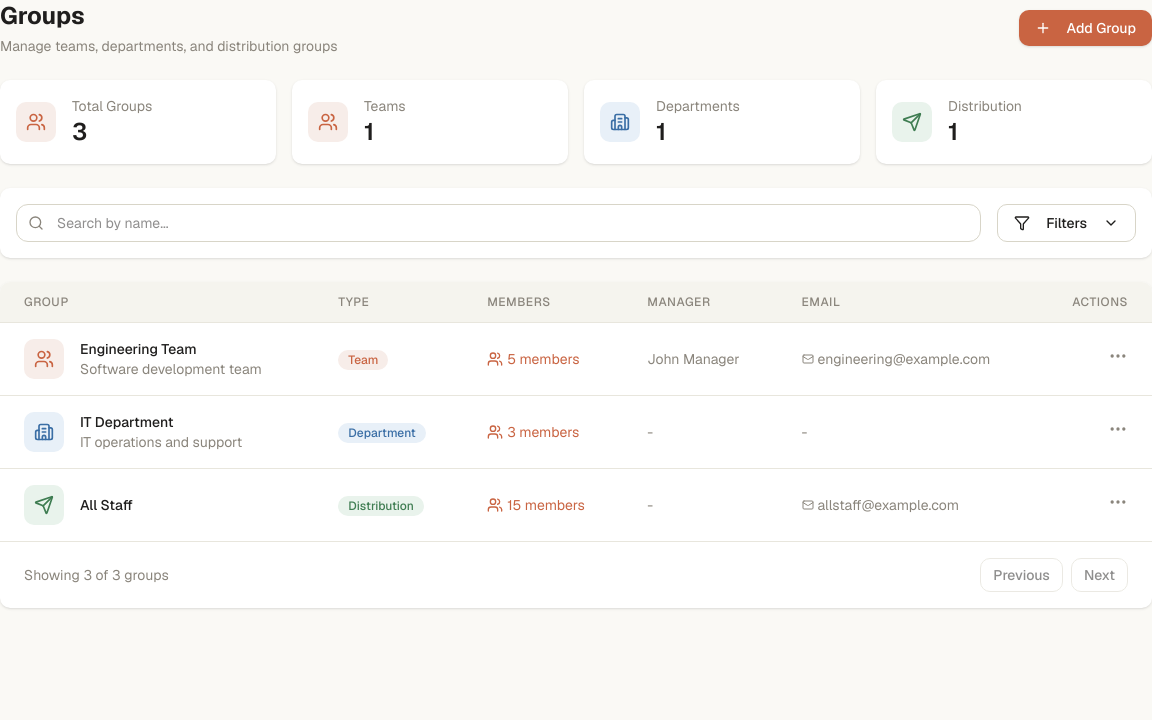
Test: GroupsPage › Create Group Modal › opens modal when Add Group is clicked
Click the button "Add Group": x=1085, y=28 [1019,10,1151,46]
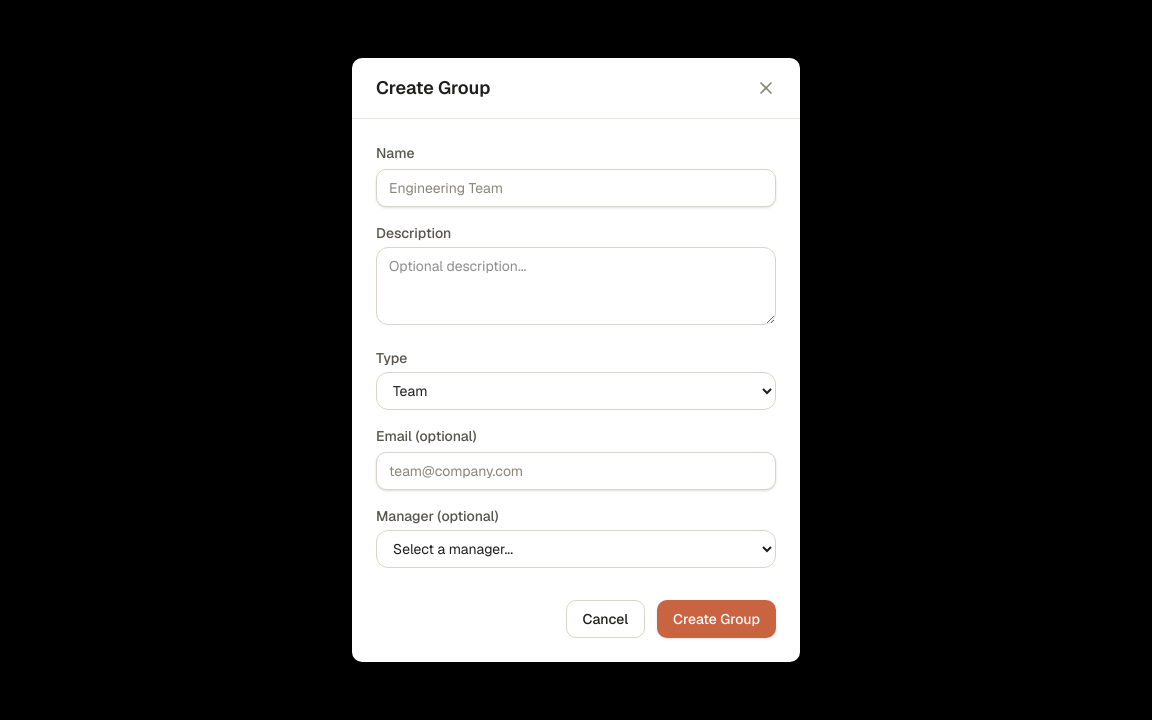
Expected: the heading "Create Group" is shown, [376,74,490,102]
